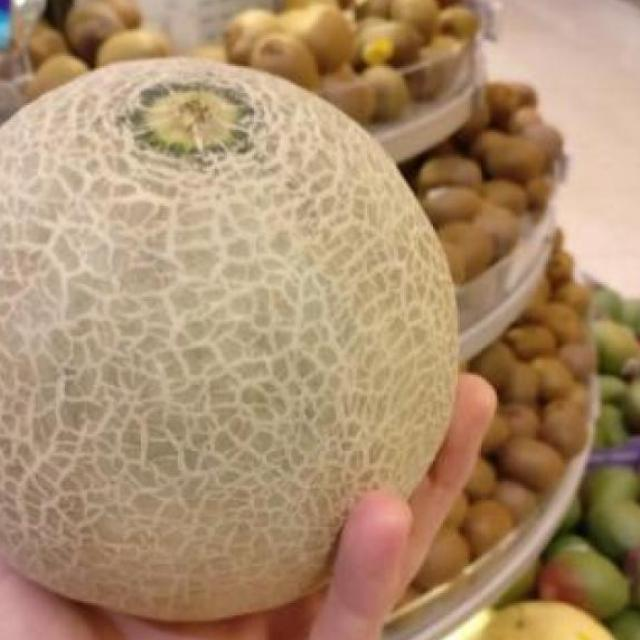Cantaloupe: (0, 56, 462, 624)
